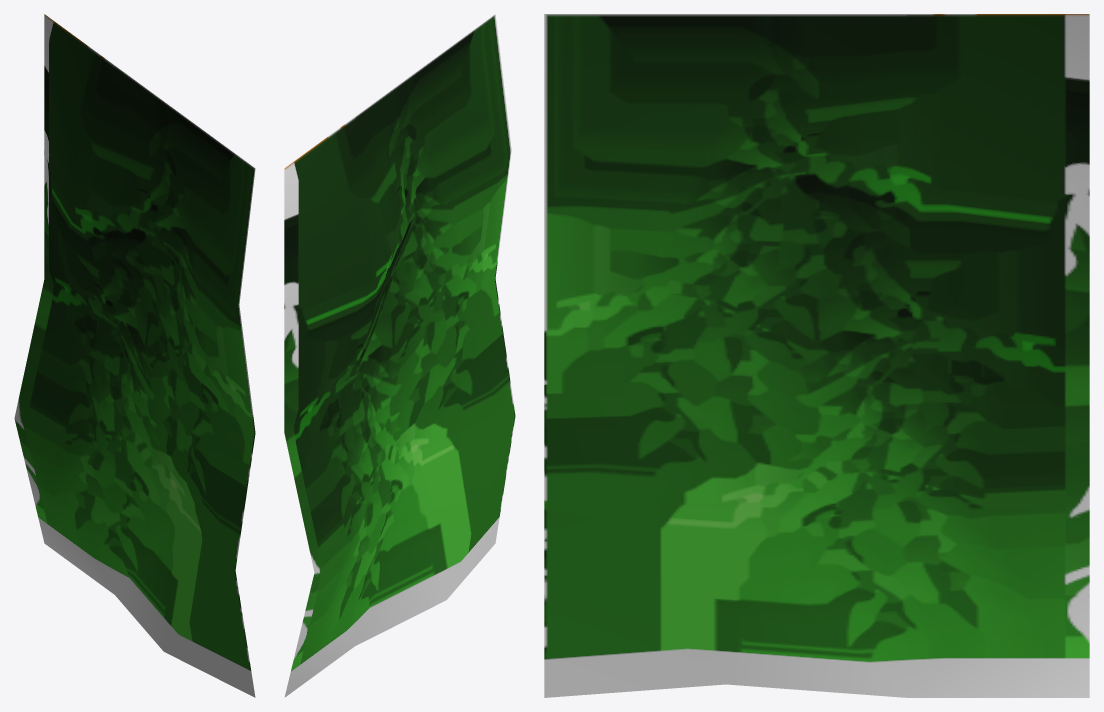
The model's file is SM_Ivy002.FBX.
The picture shows the model from 3 angles, left to right: view 1: azimuth 30°, elevation 25°; view 2: azimuth 150°, elevation 25°; view 3: azimuth 270°, elevation 25°; orthographic projection. The views are drawn at different scales.
Parts seen in each view (by area): view 1: Ivy002; view 2: Ivy002; view 3: Ivy002.
Boxes of the visible parts, <box> form: Ivy002: <box>14,14,255,697</box>; Ivy002: <box>284,14,515,697</box>; Ivy002: <box>544,14,1089,697</box>.
Size of the model in its own units: 11.28 by 118 by 164.
